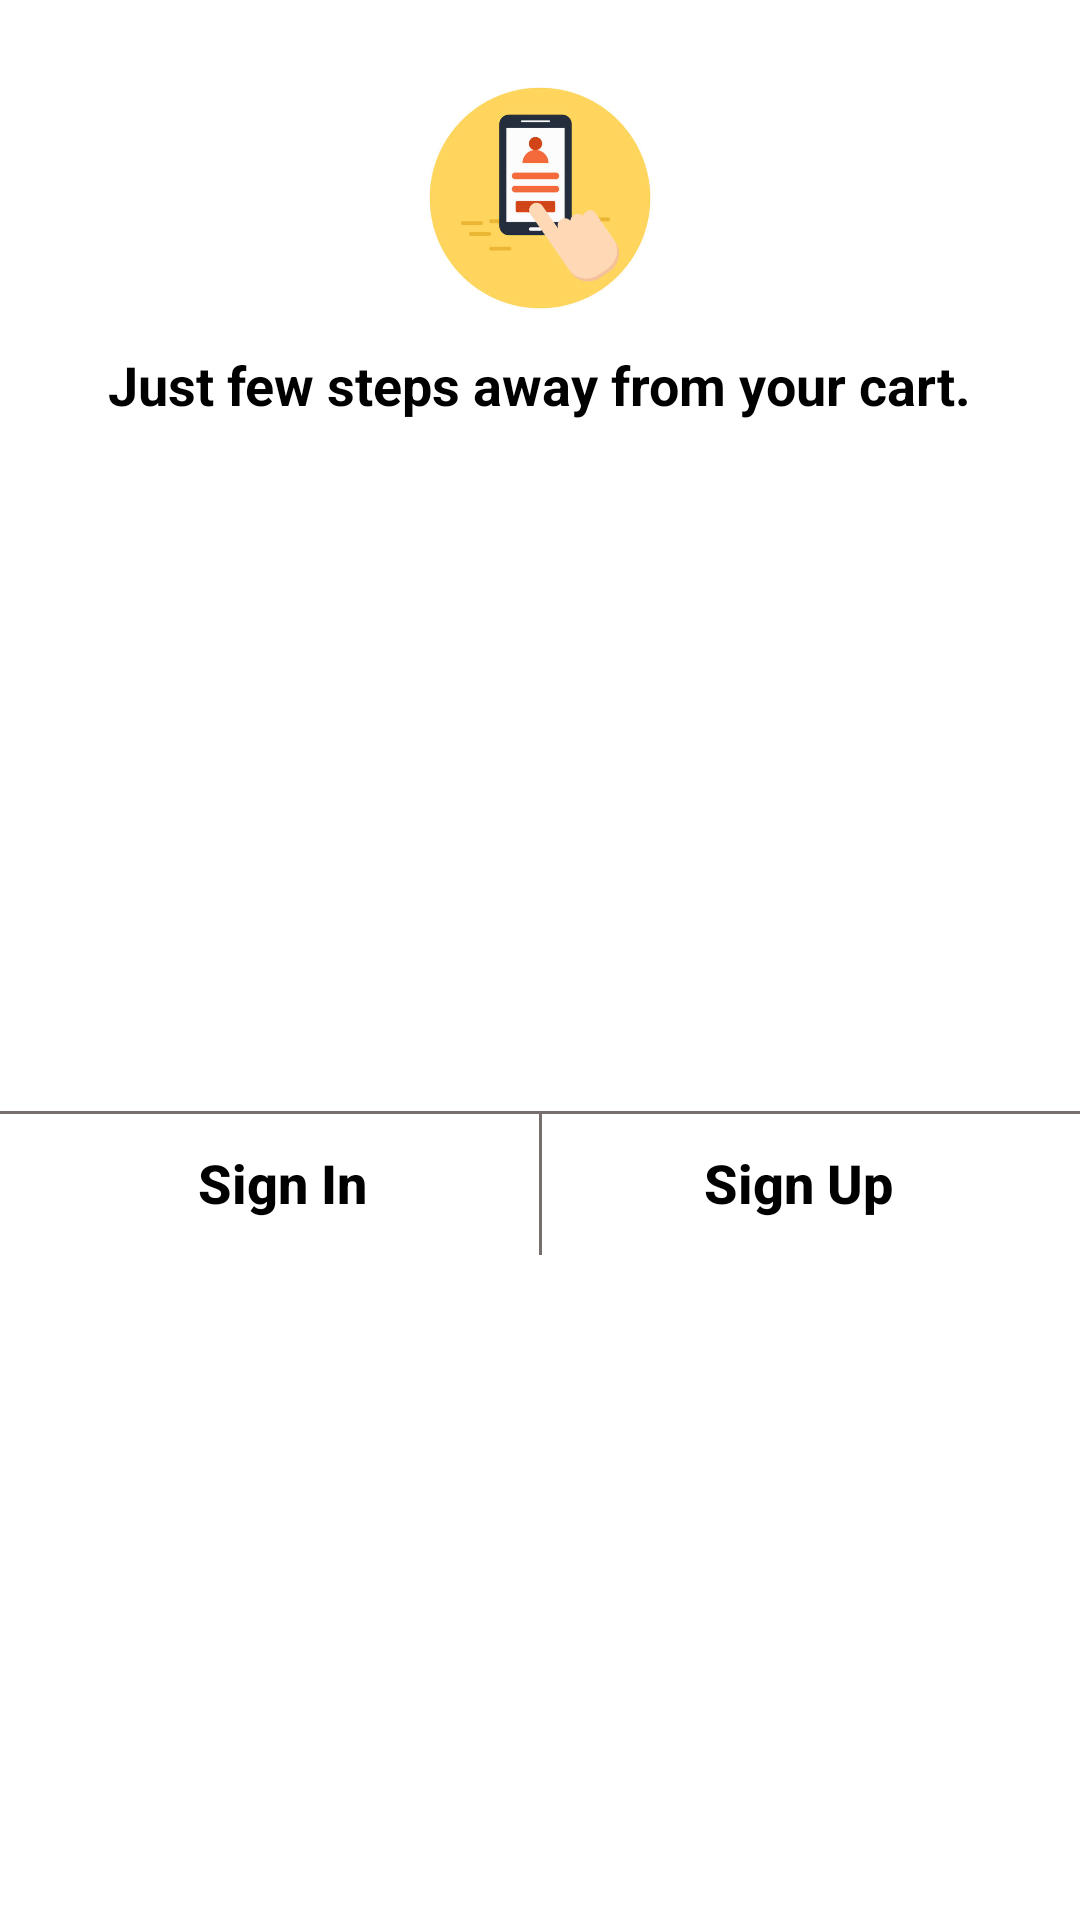

Point at icon controls on the screen. Image size 1080×1920, points as (x=x, y=y).
dialogimage: (x=540, y=198)
